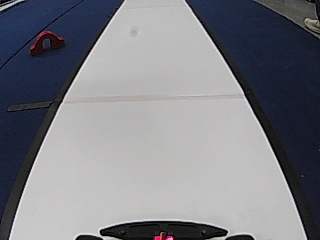bridge: (29, 27, 65, 57)
